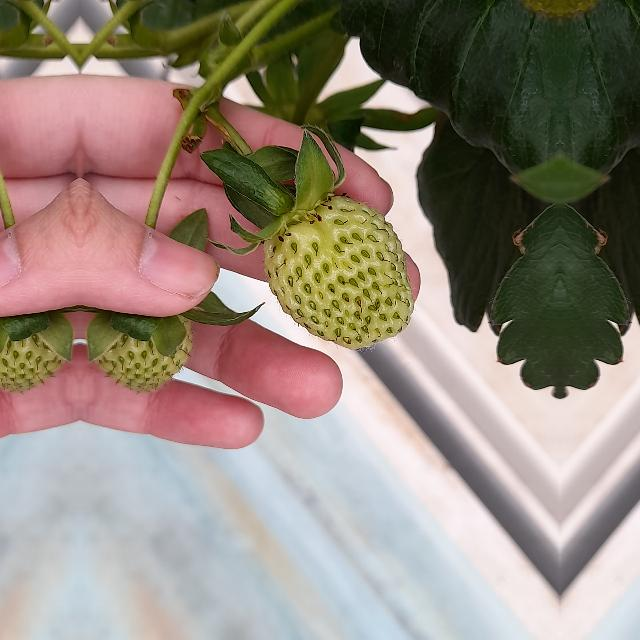Health_25: (264, 194, 414, 350), (90, 284, 194, 400), (0, 284, 70, 400)
